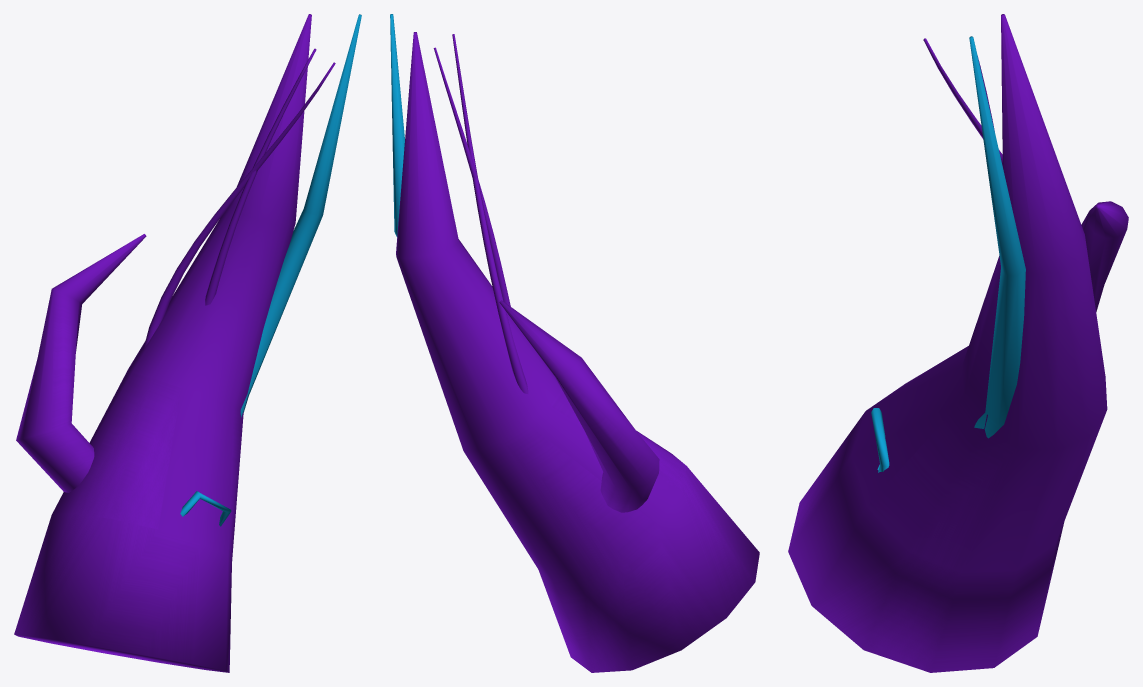
The model's file is SM_shadow_surge_wisp.fbx.
3 views of the same model, side by side, from view 1: azimuth 30°, elevation 25°; view 2: azimuth 150°, elevation 25°; view 3: azimuth 270°, elevation 25° (orthographic). The views are drawn at different scales.
Parts seen in each view (by area): view 1: SM_shadow_surge_wisp; view 2: SM_shadow_surge_wisp; view 3: SM_shadow_surge_wisp.
Boxes of the visible parts, x1,y1,x2,y2 form: SM_shadow_surge_wisp: [14, 14, 361, 672]; SM_shadow_surge_wisp: [390, 14, 759, 672]; SM_shadow_surge_wisp: [788, 14, 1128, 672].
Bounding box in the file's own units: 0.235 × 0.1616 × 0.3908.
